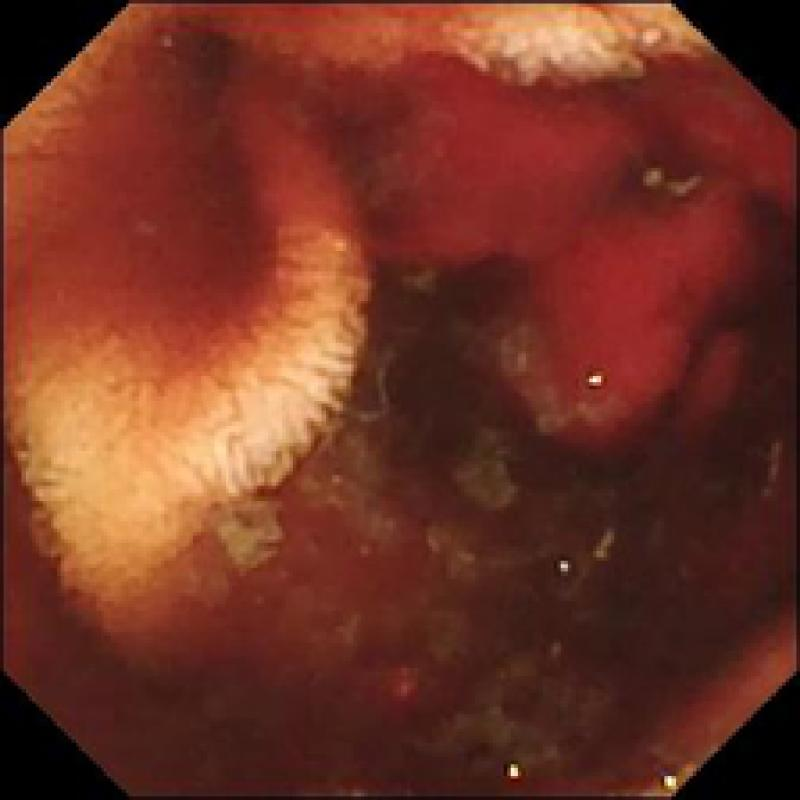bleeding: (264, 43, 800, 453)
